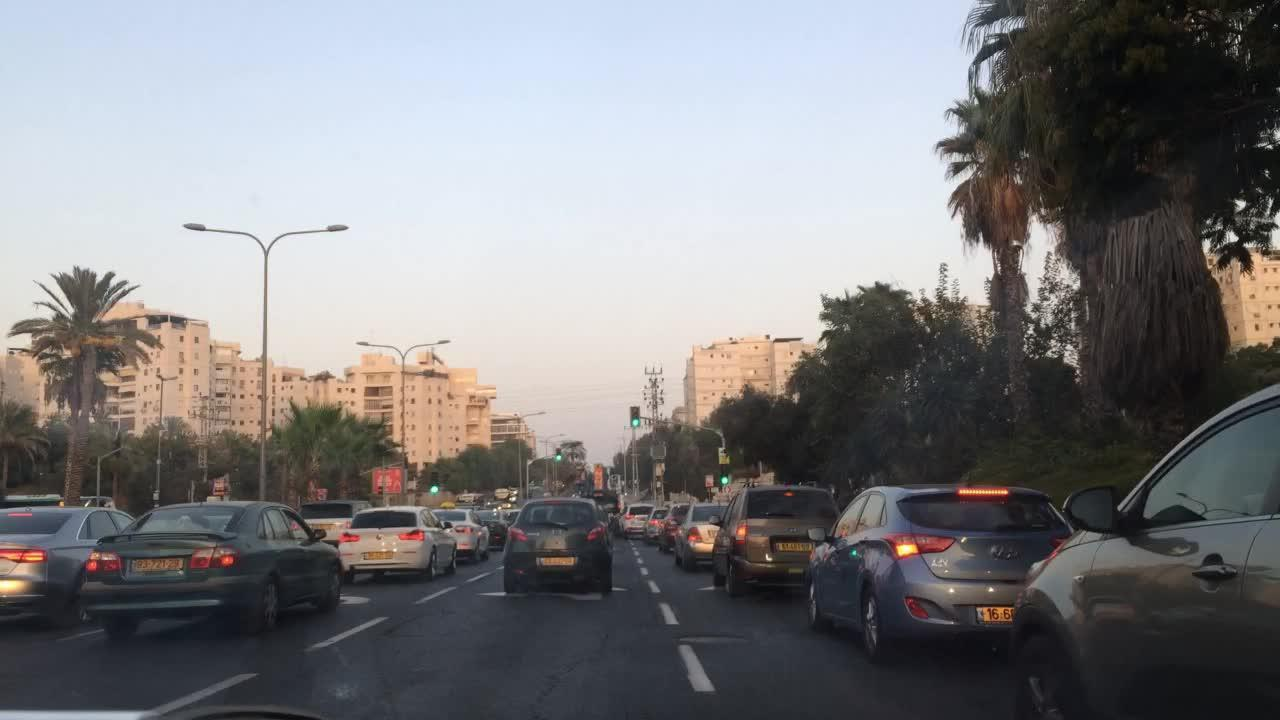Hyundai: (990, 540, 1023, 563)
